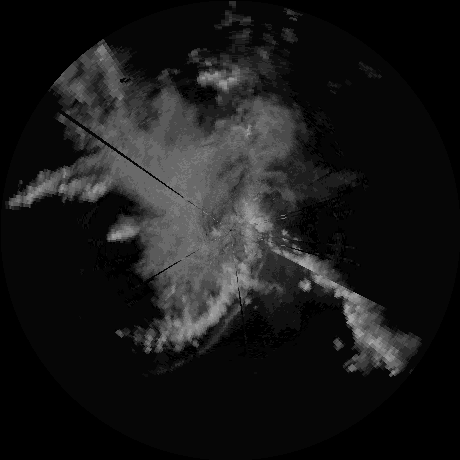frontgust: (159, 301, 245, 372), (251, 249, 267, 288)
